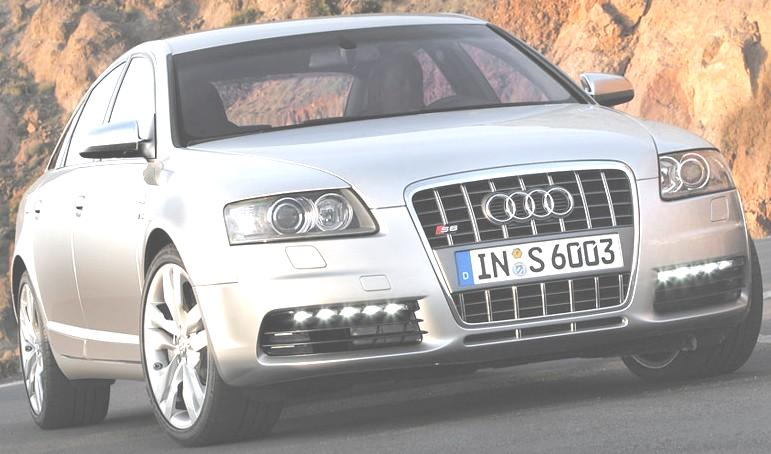Audi: (468, 176, 589, 234)
